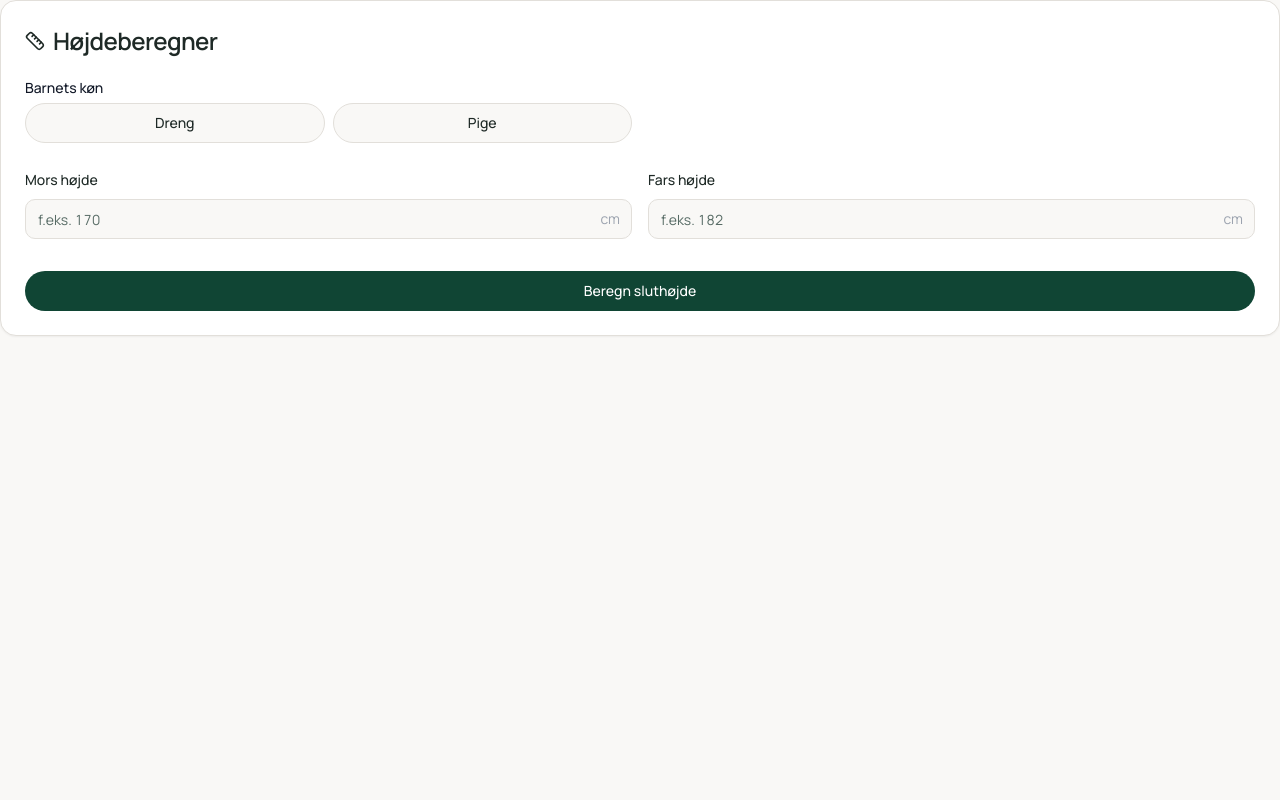
AdultHeightCalculator › predicts a height with its range once a sex and both parents are given
The image size is (1280, 800).
Click the button "Dreng" at (175, 123), box [25,103,324,143]
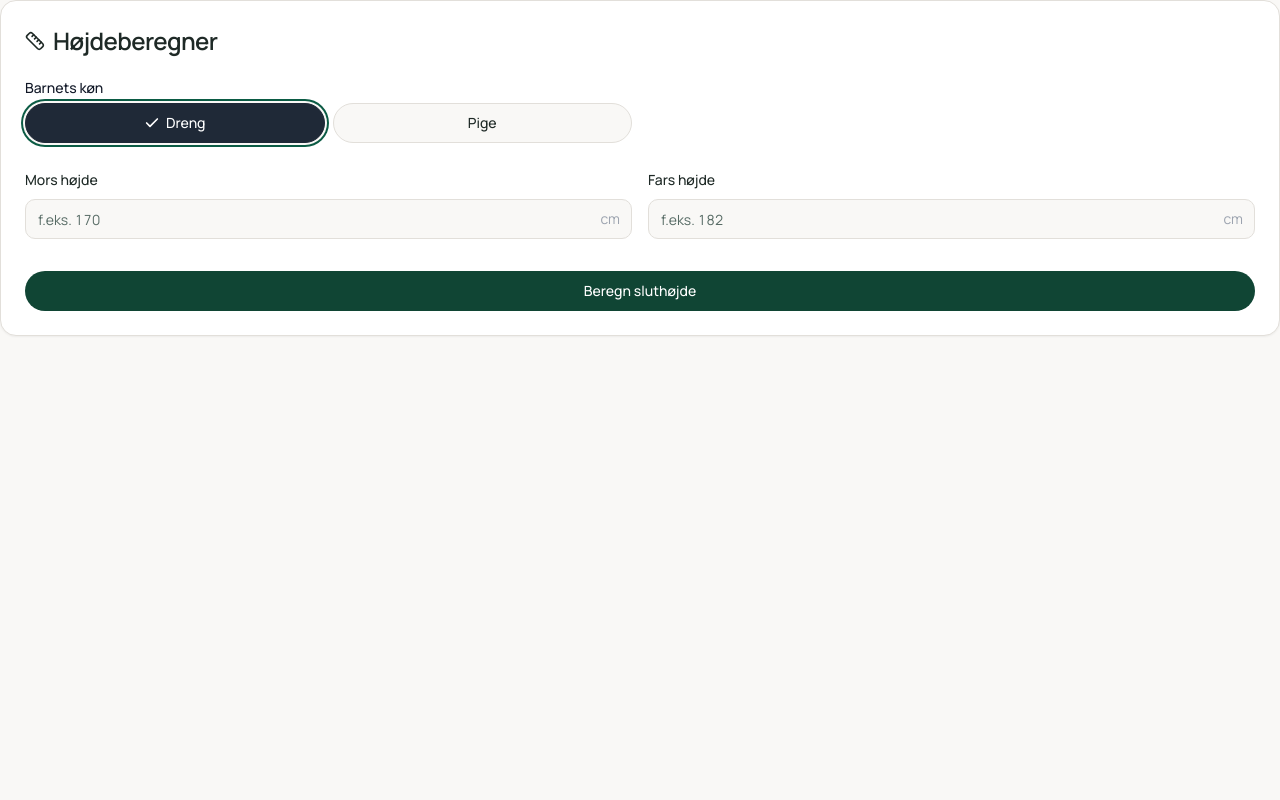
Type "170" into the field labelled "Mors højde" at (328, 219), box [25,199,632,239]
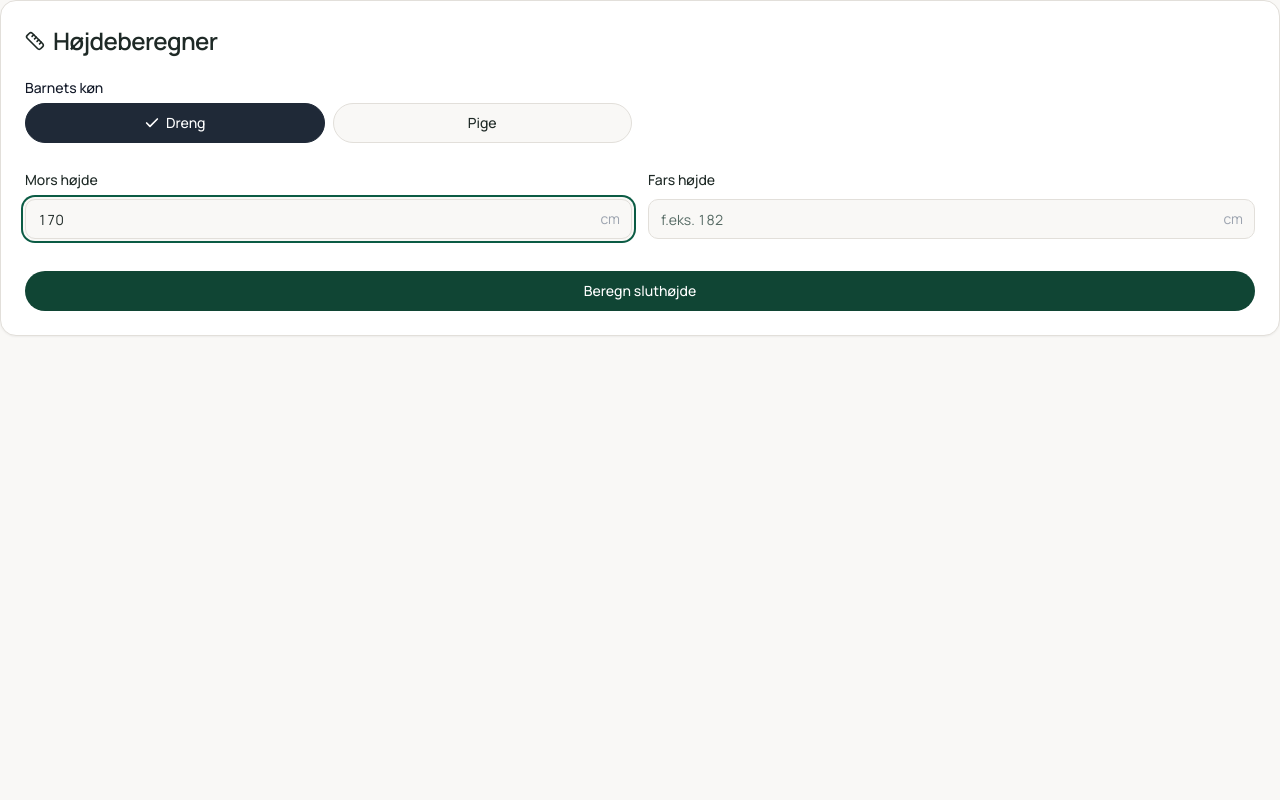
Type "182" into the field labelled "Fars højde" at (952, 219), box [648,199,1255,239]
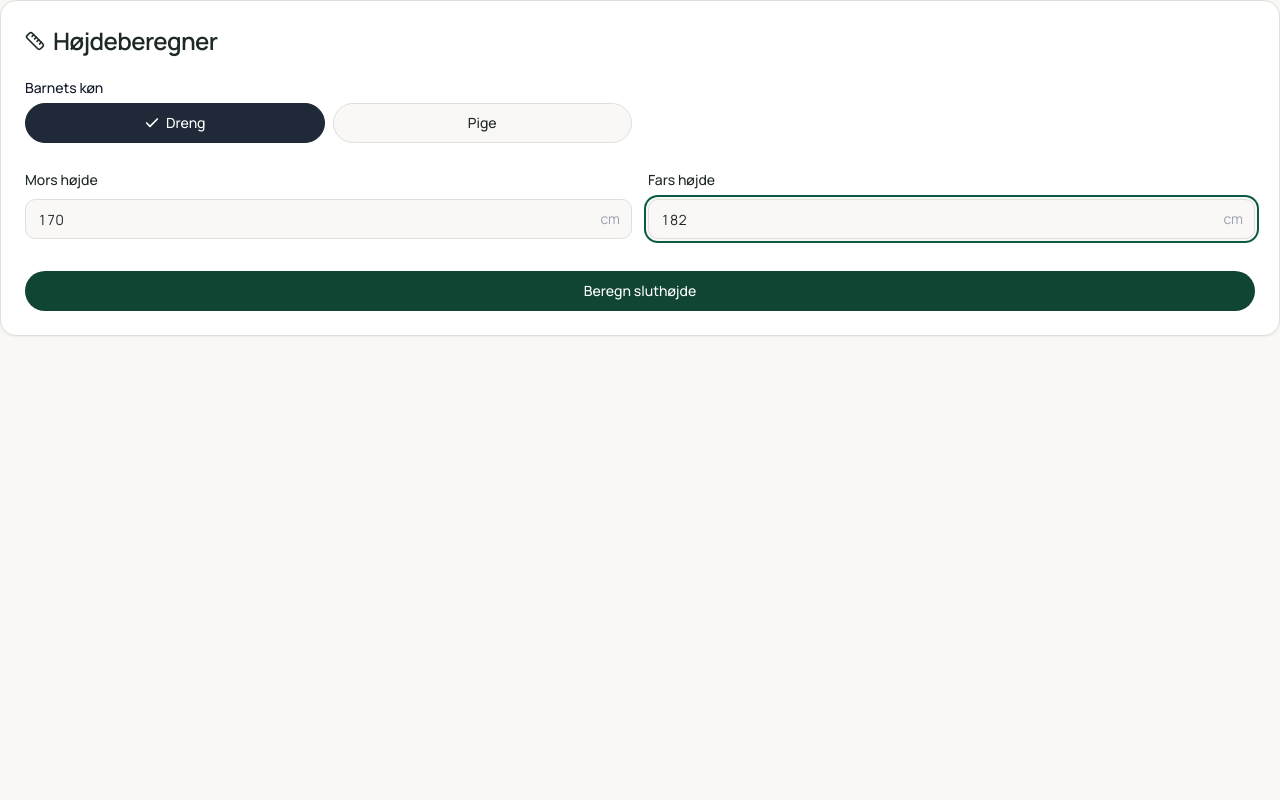
Click the button "Beregn sluthøjde" at (640, 291), box [25,271,1255,311]
(page scrolled)
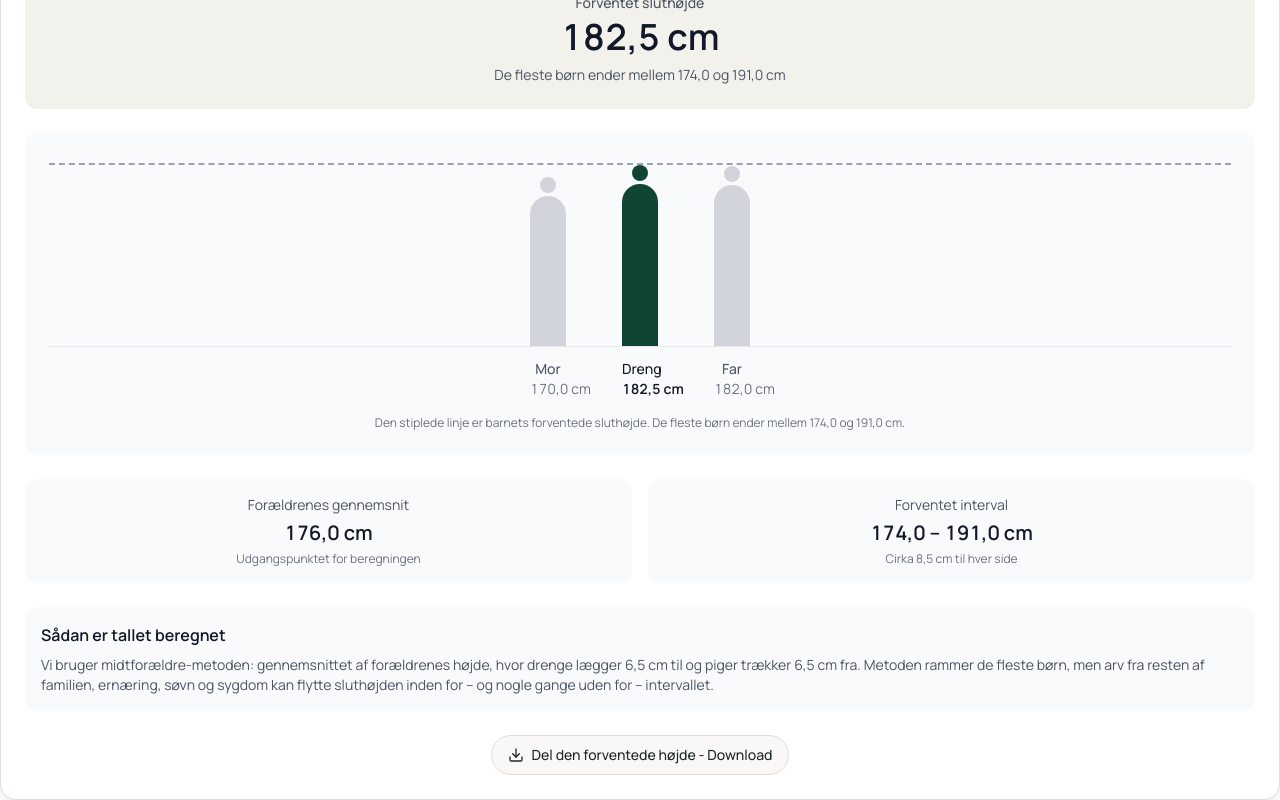
Check: the text "182,5 cm" below "Forventet sluthøjde" is shown, box [560,12,720,61]
Check: the text "De fleste børn ender mellem 174,0 og 191,0 cm" is shown, box [494,65,786,84]
Check: the text "176,0 cm" is shown, box [284,519,373,546]
